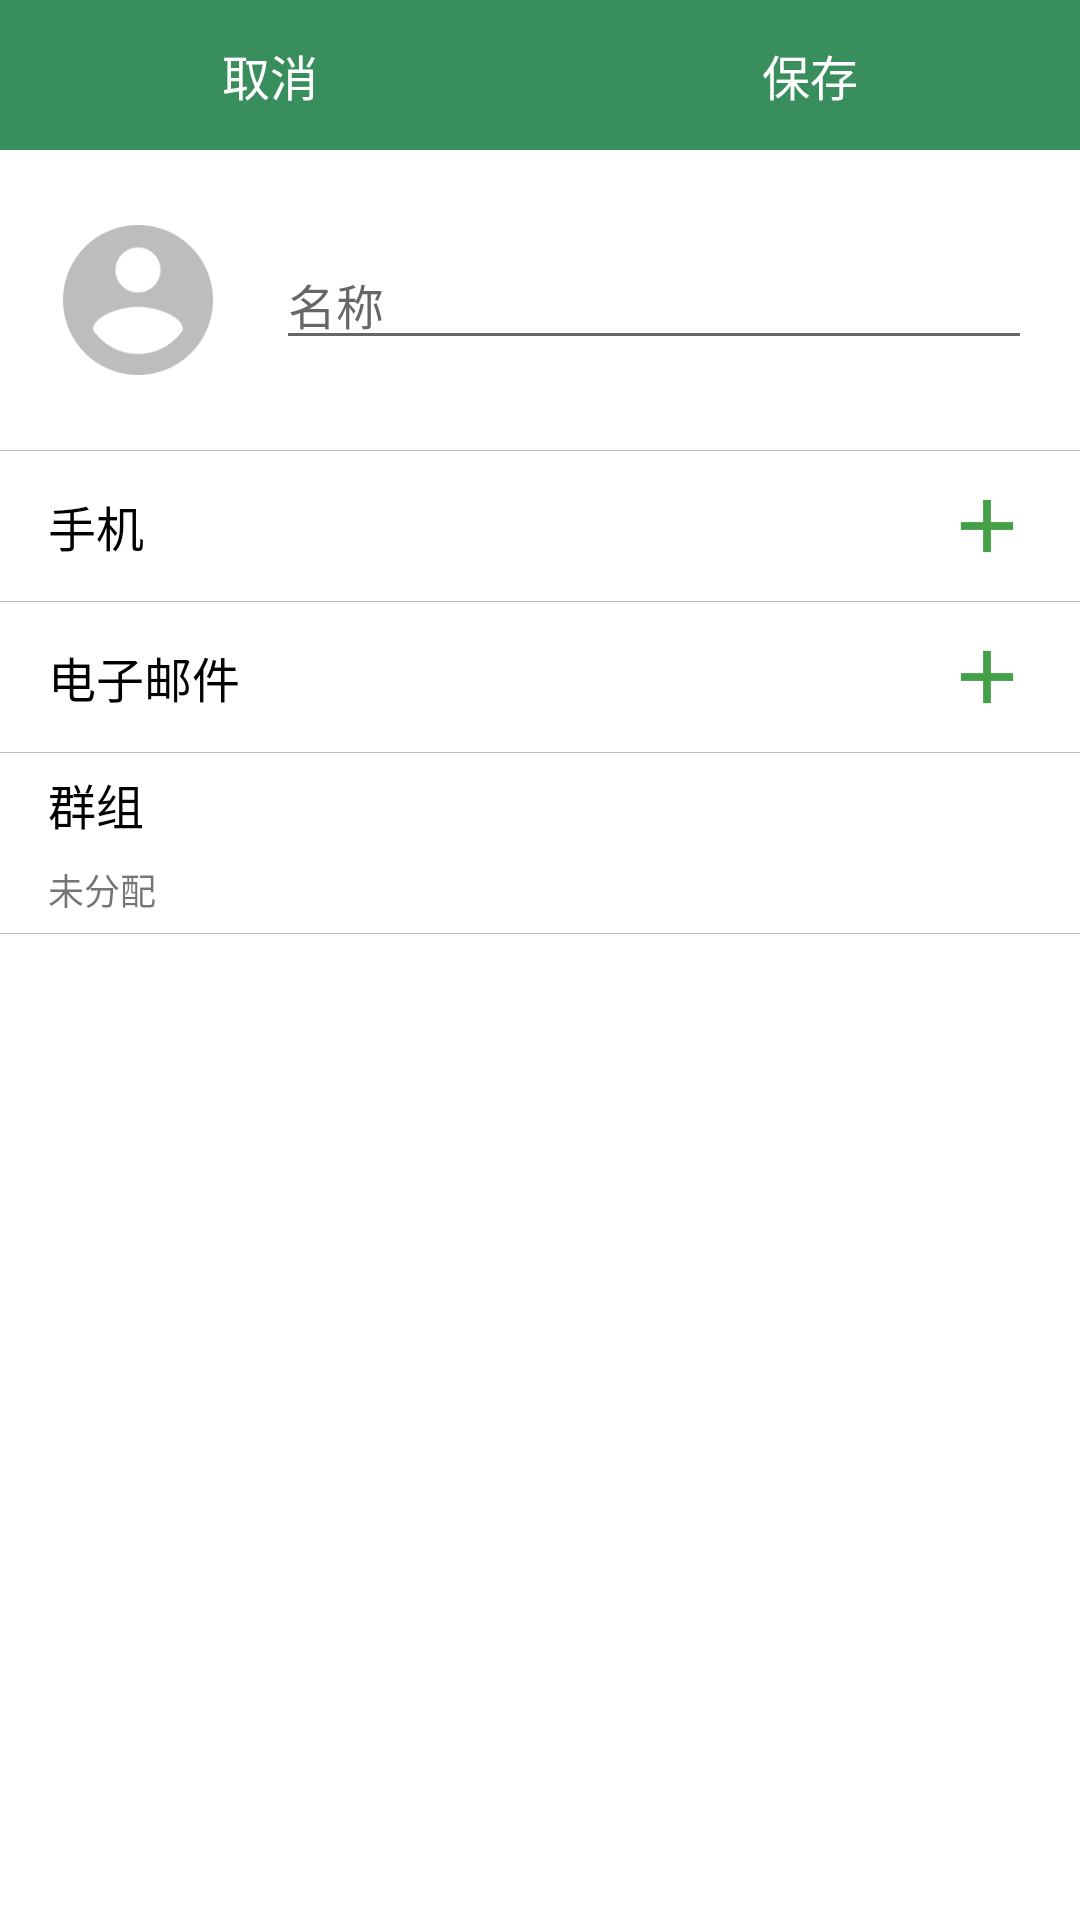

Named icons in this screenshot (1080w x 1920h) and their bounding boxes, rect(x1, y1, x2, y2):
account circle: rect(63, 225, 213, 375)
